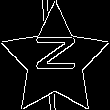N_W: (31, 41, 79, 81)
